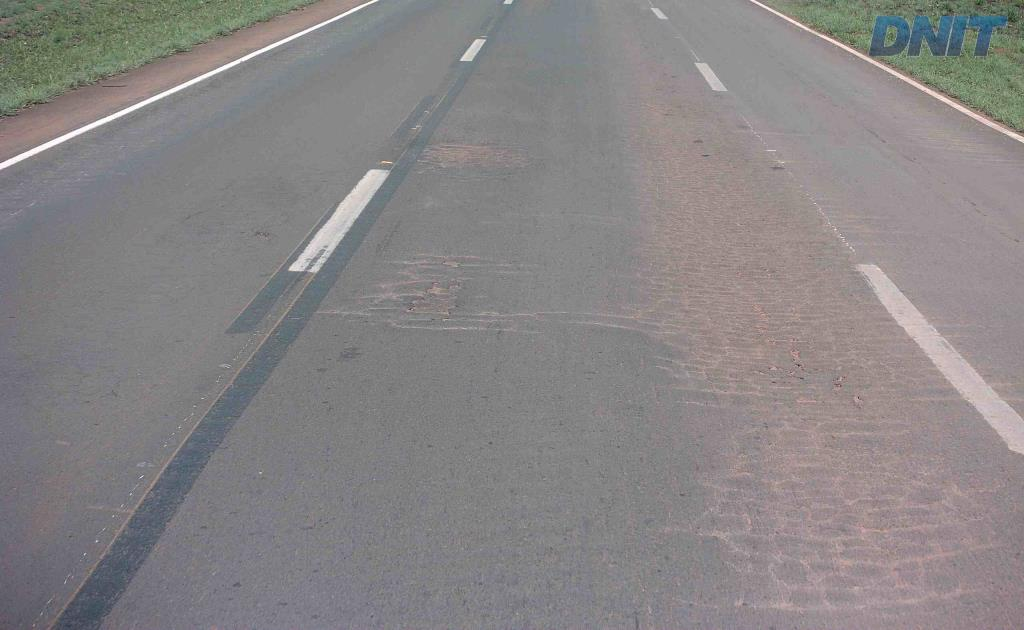pothole: (403, 279, 457, 317), (440, 257, 462, 269)
